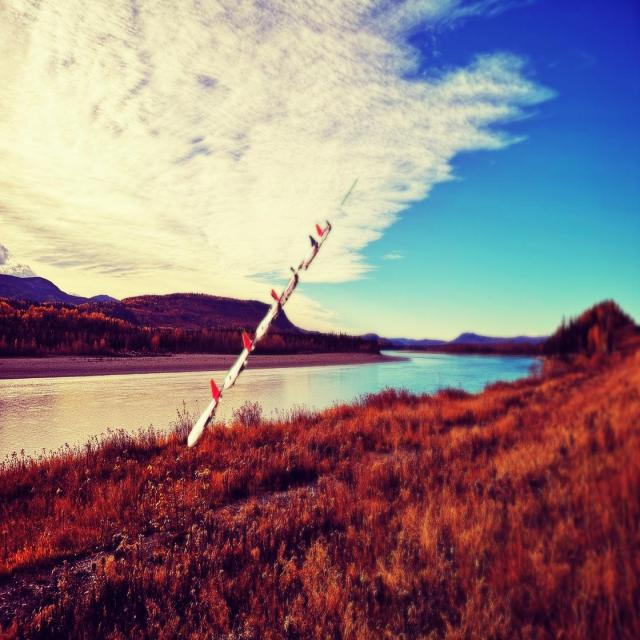airplane: (184, 380, 223, 448), (224, 328, 259, 396), (252, 282, 282, 352), (294, 232, 322, 278), (276, 264, 300, 316)
